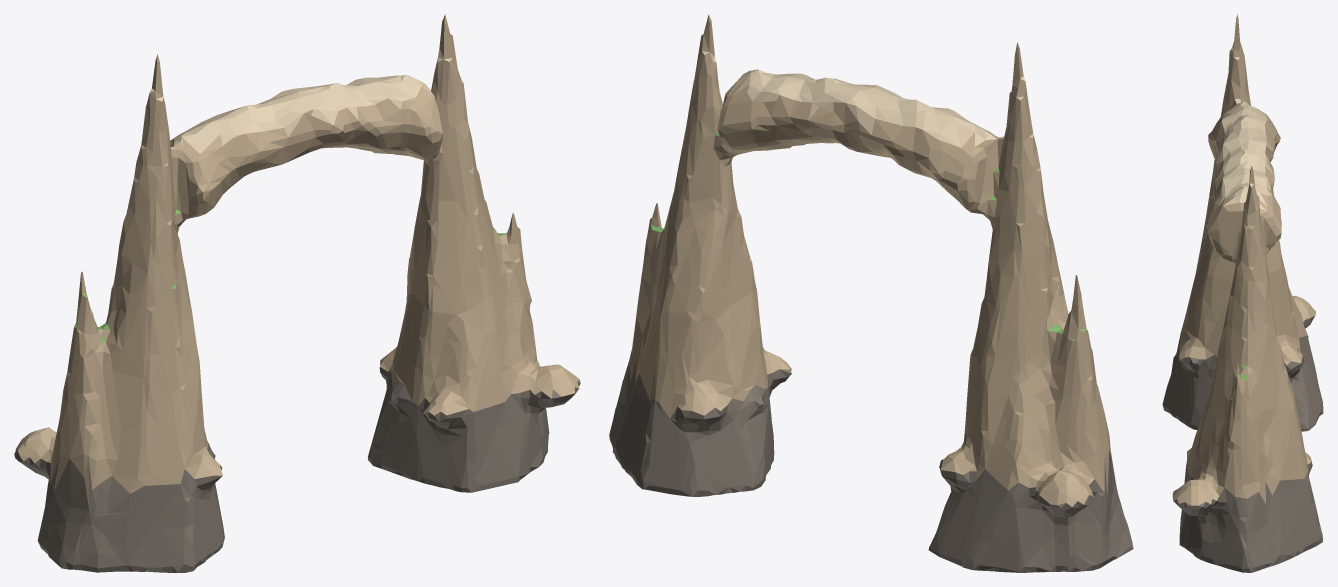
Rendered from natural_arch.glb.
3 views of the same model, side by side, from view 1: azimuth 30°, elevation 25°; view 2: azimuth 150°, elevation 25°; view 3: azimuth 270°, elevation 25° (orthographic). The views are drawn at different scales.
Visible parts, largest first — view 1: Corneria_Natural_Arch; view 2: Corneria_Natural_Arch; view 3: Corneria_Natural_Arch.
Boxes of the visible parts, x1,y1,x2,y2 form: Corneria_Natural_Arch: [14, 14, 580, 572]; Corneria_Natural_Arch: [609, 14, 1133, 572]; Corneria_Natural_Arch: [1162, 14, 1323, 572].
Size of the model in its own units: 176 by 163 by 59.11.
